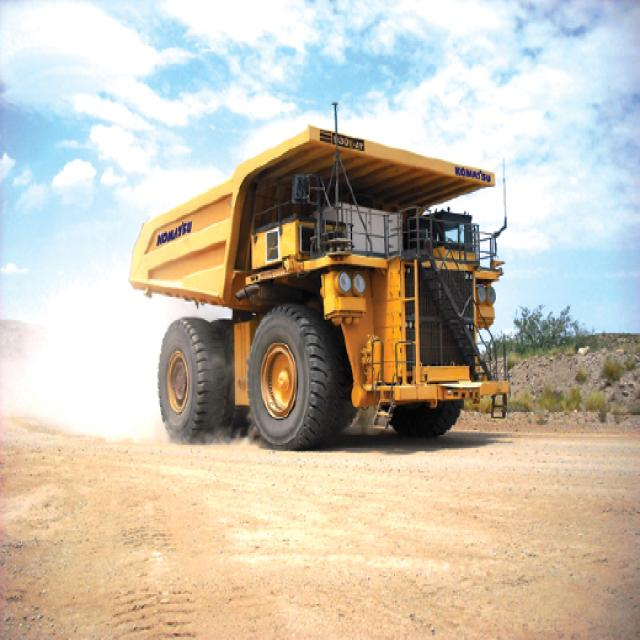dump_truck: (125, 123, 501, 446)
